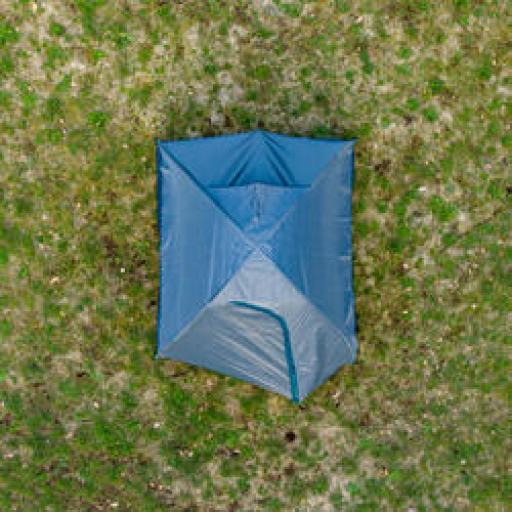Tent: (152, 140, 368, 396)
